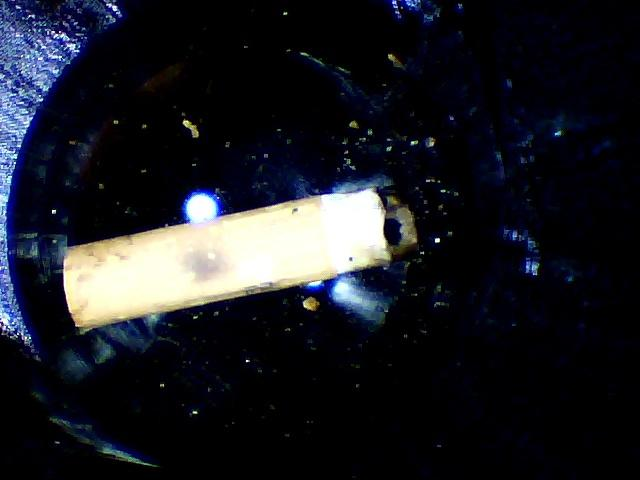megot: (55, 175, 426, 343)
